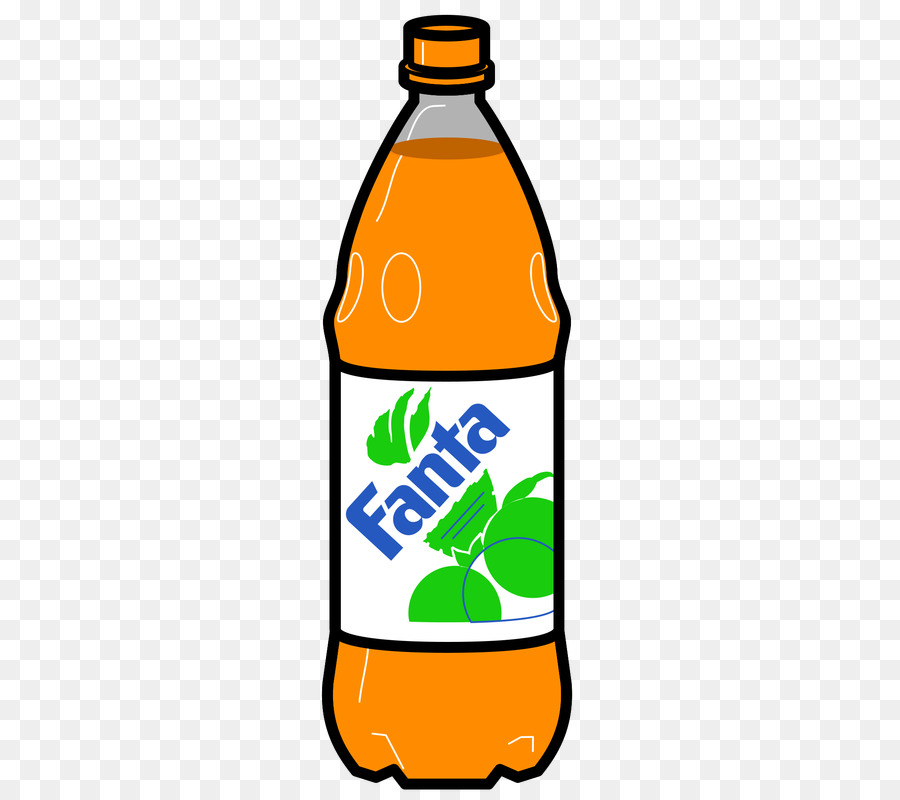Fanta: (319, 31, 574, 789)
